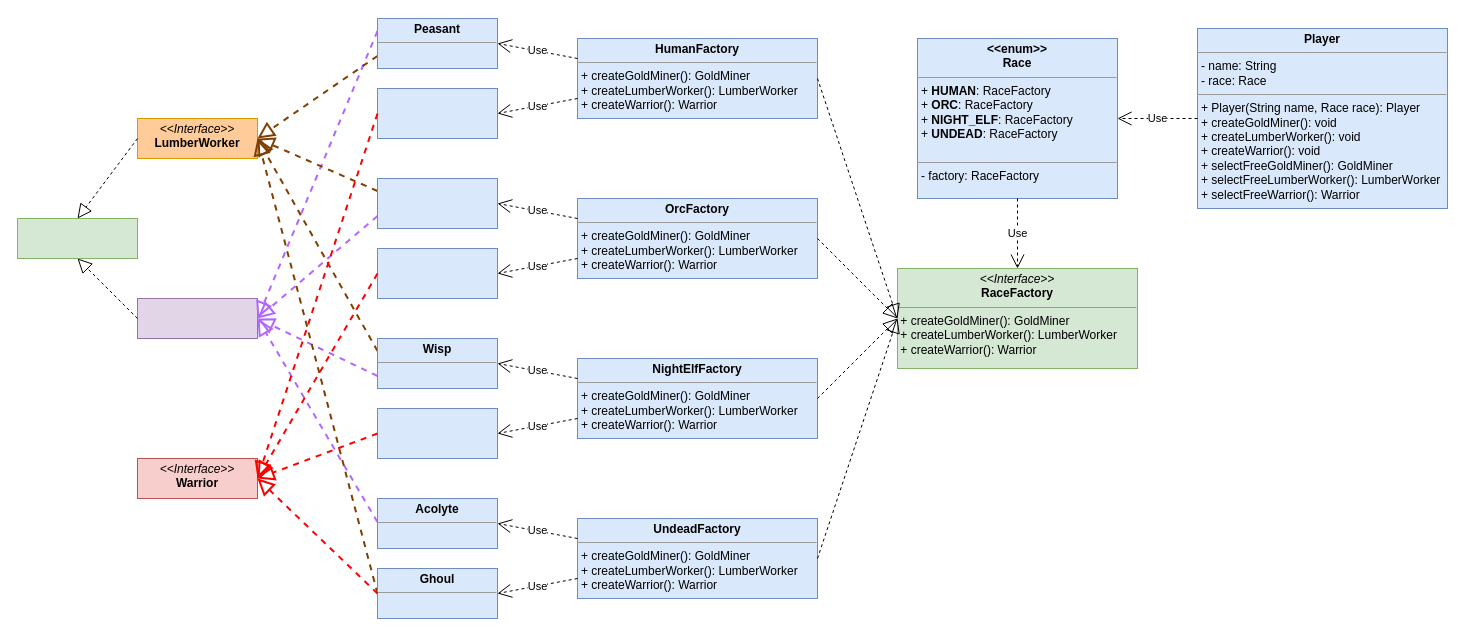
This 1465x636 diagram has some shape labels left out. Each missing label, with the box of its shape:
<<Interface>> GoldMiner: (136, 298, 258, 338)
<<Interface>> Worker: (16, 218, 138, 258)
Archer: (376, 408, 498, 458)
Footman: (376, 88, 498, 138)
Grunt: (376, 248, 498, 298)
Peon: (376, 178, 498, 228)
